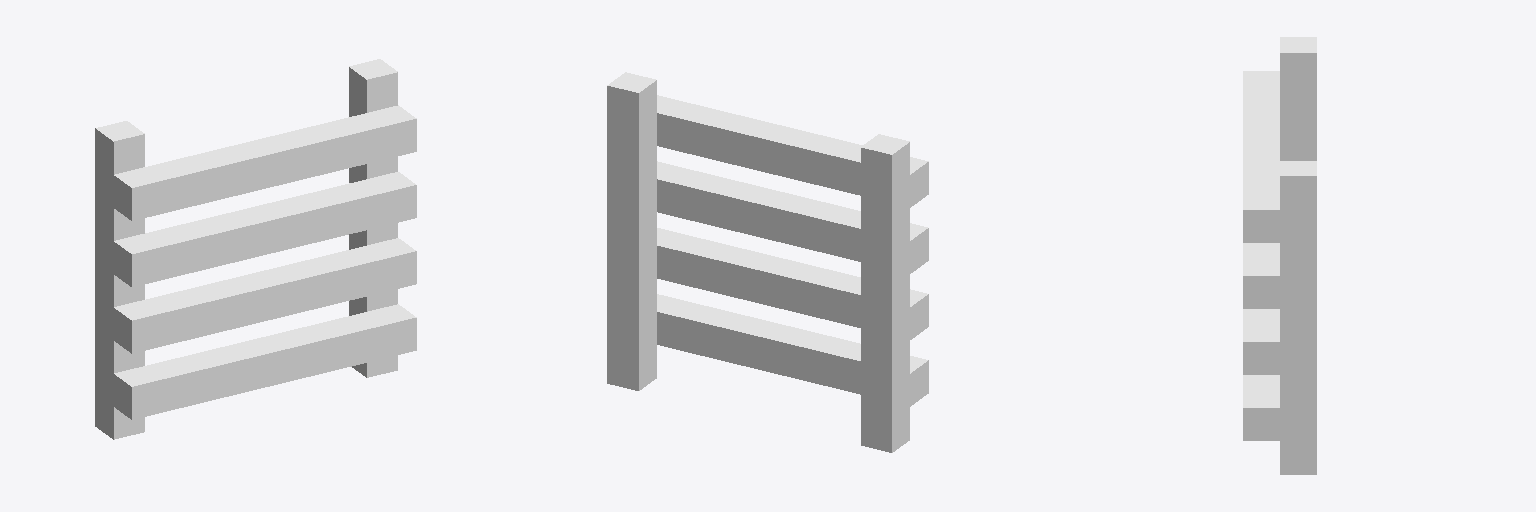
File: ConstructionMaterials-100.obj
3 renders of one model, left to right at view 1: azimuth 30°, elevation 25°; view 2: azimuth 150°, elevation 25°; view 3: azimuth 270°, elevation 25°, orthographic.
Parts seen in each view (by area): view 1: object 1; view 2: object 1; view 3: object 1.
Part boxes in pixels (x1,y1,x2,y2): object 1: (95,59,416,439); object 1: (607,72,928,452); object 1: (1243,37,1316,474).
Size of the model in its own units: 0.9 by 0.9 by 0.2.